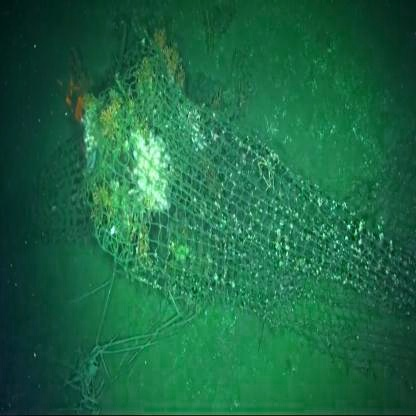net: (98, 104, 400, 375)
